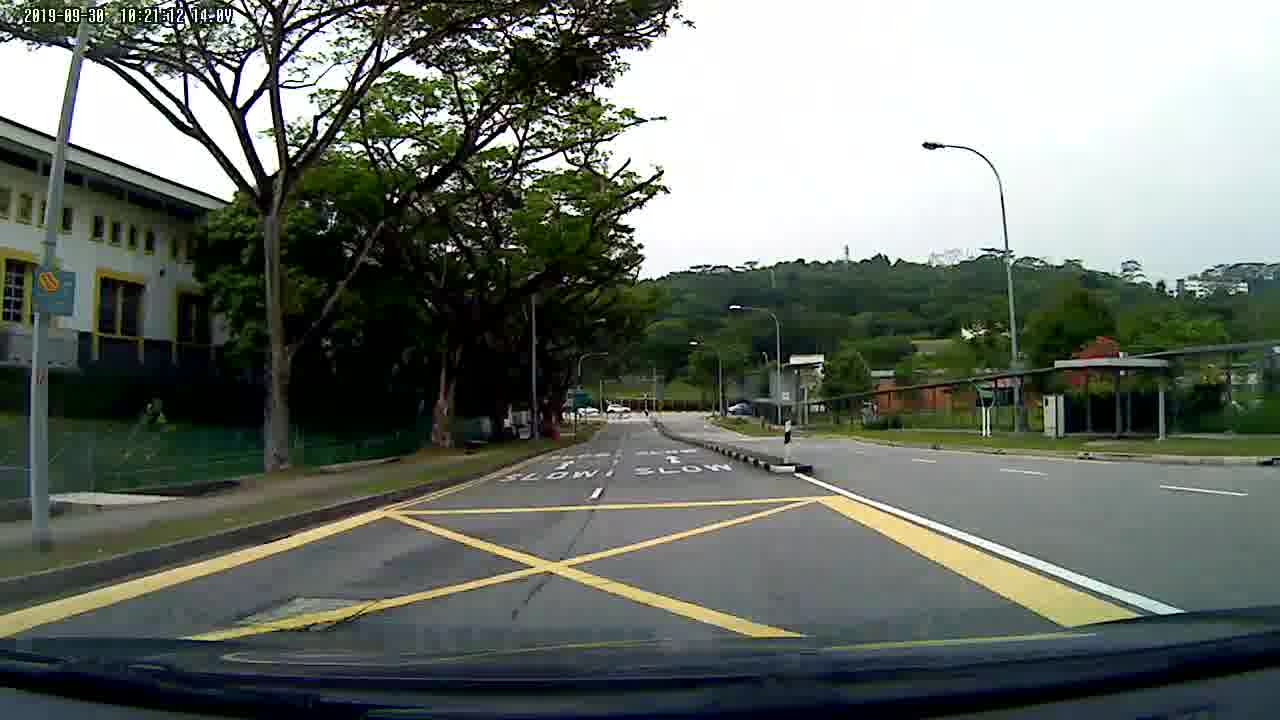car: (607, 401, 630, 416)
